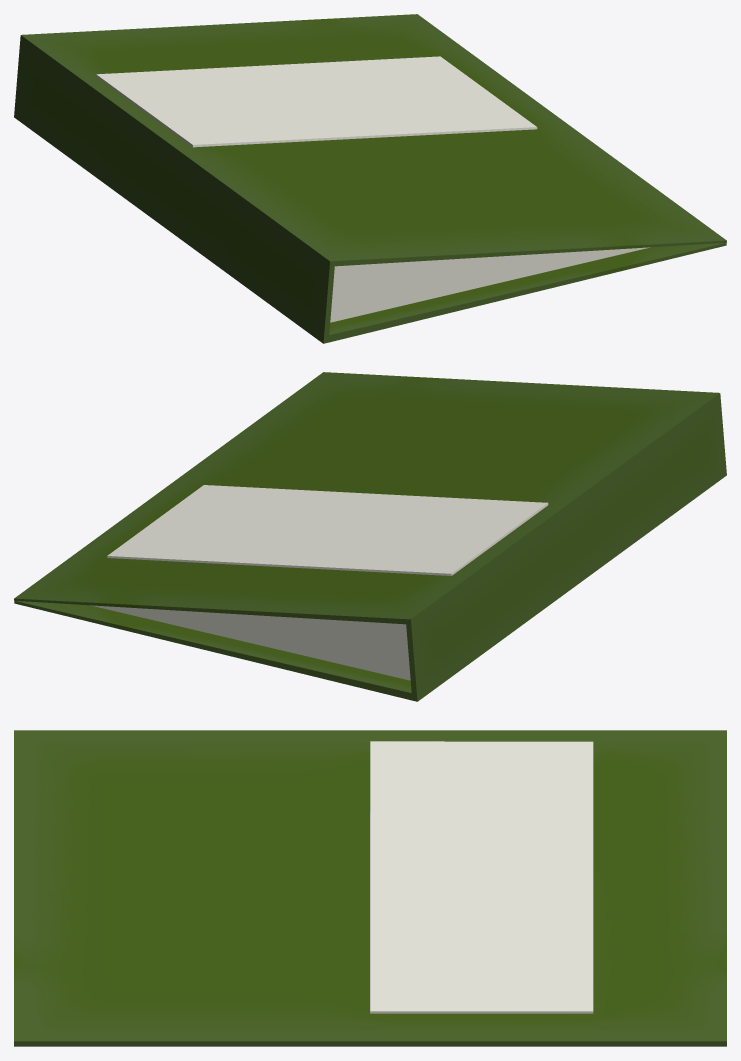
The model's file is FileFolderC.fbx.
3 views of the same model, one above another, from view 1: azimuth 30°, elevation 25°; view 2: azimuth 150°, elevation 25°; view 3: azimuth 270°, elevation 25° (orthographic). The views are drawn at different scales.
Parts seen in each view (by area): view 1: FileFolderC; view 2: FileFolderC; view 3: FileFolderC.
Part boxes in pixels (left/top/right/bottom): FileFolderC: left=14, top=14, right=726, bottom=343; FileFolderC: left=14, top=372, right=726, bottom=701; FileFolderC: left=14, top=730, right=726, bottom=1046.
Size of the model in its own units: 26.95 by 5.16 by 35.8.
1 material, 1 textured.
